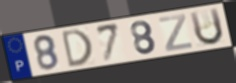7: (95, 21, 121, 64)
8: (33, 34, 60, 72), (130, 20, 157, 55)
D: (60, 27, 94, 70)
U: (188, 6, 226, 47)
Z: (157, 12, 194, 53)
